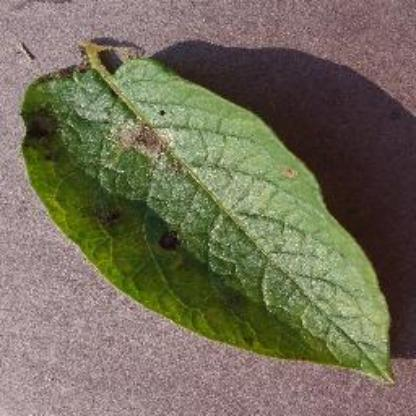Late-Blight: (12, 36, 406, 394)
